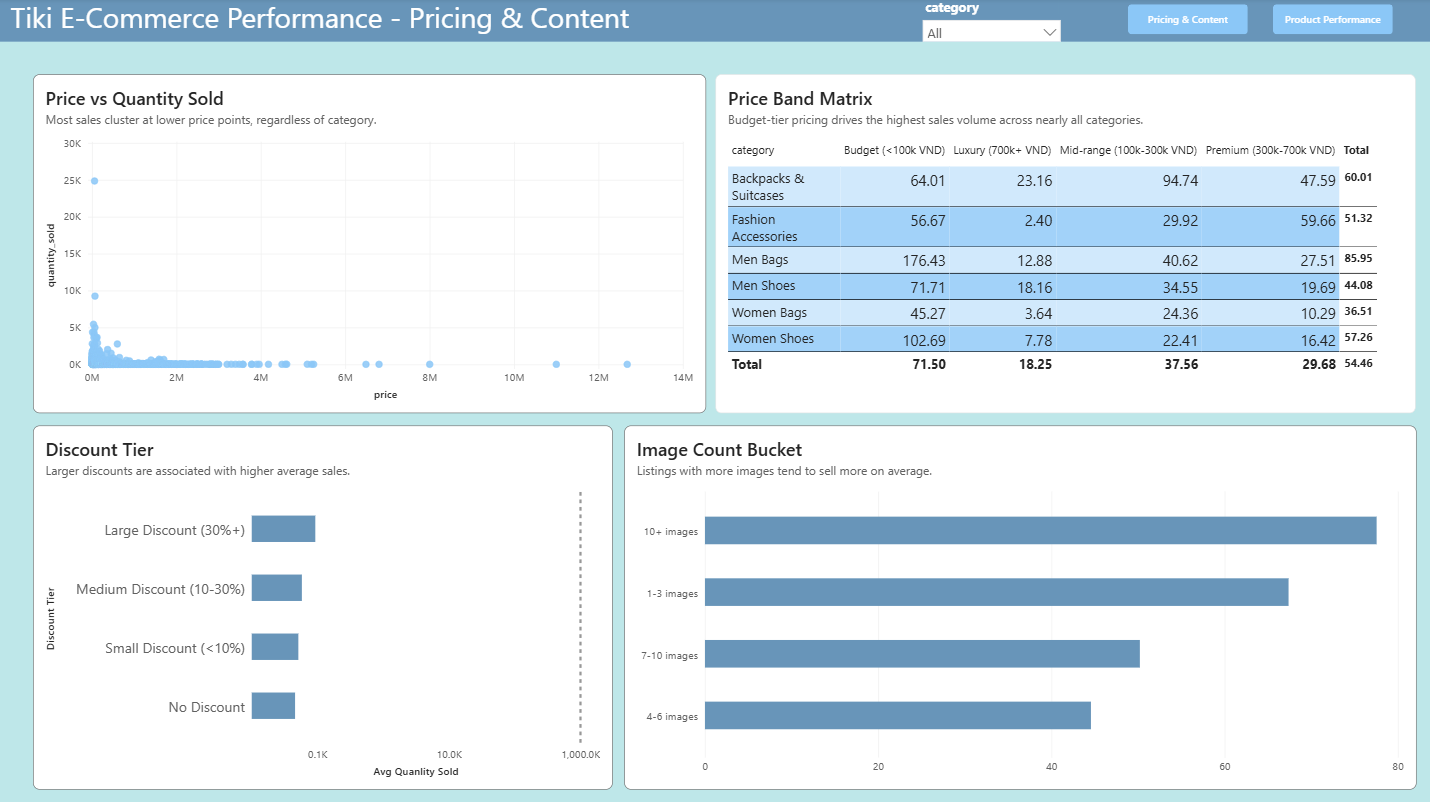

Layout of this report page (visuals, bound fields, positions):
{"tool":"powerbi","page":{"name":"Product & Pricing Drill-down","canvas":[1920,1080],"ordinal":2},"visuals":[{"type":"shape","box":[0,0,1920,58],"z":0},{"type":"slicer","fields":{"Values":["tiki_products_cleaned.category"]},"box":[1230.6,0,194,58],"z":4000},{"type":"barChart","title":"Discount Tier ","fields":{"Category":["tiki_products_cleaned.Discount Tier"],"Y":["tiki_products_cleaned.Avg Quanlity Sold"]},"box":[47.1,571.9,774.5,486.8],"z":5000},{"type":"pivotTable","title":"Price Band Matrix","fields":{"Columns":["tiki_products_cleaned.Price Band"],"Rows":["tiki_products_cleaned.category"],"Values":["tiki_products_cleaned.Avg Quanlity Sold"]},"box":[959.1,101.3,935.6,452.4],"z":6000},{"type":"scatterChart","title":"Price vs Quantity Sold","fields":{"X":["tiki_products_cleaned.price"],"Y":["tiki_products_cleaned.quantity_sold"]},"box":[47.1,101.3,899.4,452.4],"z":7000},{"type":"barChart","title":"Image Count Bucket","fields":{"Category":["tiki_products_cleaned.Image Count Bucket"],"Y":["tiki_products_cleaned.Avg Quanlity Sold"]},"box":[836.1,571.9,1058.7,486.8],"z":9000},{"type":"actionButton","title":"Pricing View","box":[1702.9,9,160,40],"z":10000},{"type":"actionButton","title":"Content Quality View","box":[1509.3,9,160,40],"z":11000},{"type":"textbox","box":[16.3,0,1029.7,72.4],"z":11001}]}

Visuals, with their boxes in screenshot pixels (x1, y1, x2, y2), scaled from the page's 1920x1080 canvas onto the 1430x802 screenshot:
shape: 0:0:1429:43
slicer - tiki_products_cleaned.category: 917:0:1061:43
"Discount Tier " barChart: 35:425:612:786
"Price Band Matrix" pivotTable: 714:75:1411:411
"Price vs Quantity Sold" scatterChart: 35:75:705:411
"Image Count Bucket" barChart: 623:425:1411:786
"Pricing View" actionButton: 1268:7:1387:36
"Content Quality View" actionButton: 1124:7:1243:36
textbox: 12:0:779:54
